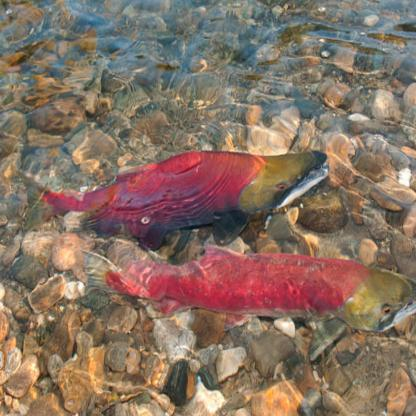sockeye: (27, 130, 337, 241), (92, 245, 416, 337)
